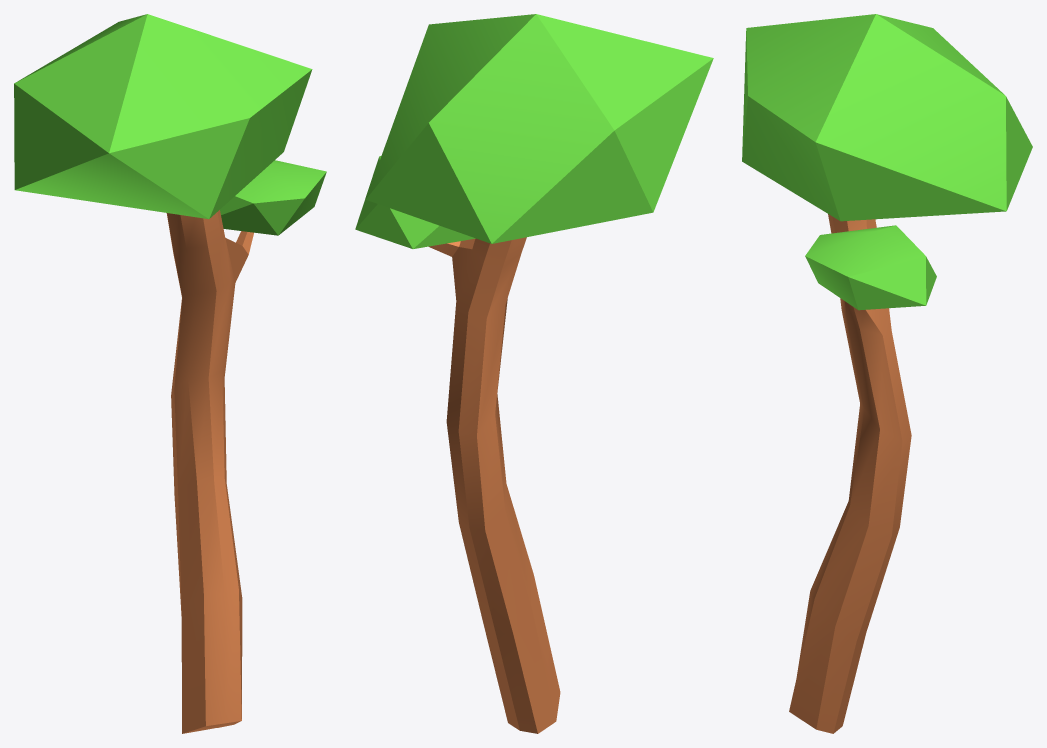
The model's file is tree3.fbx.
3 renders of one model, left to right at view 1: azimuth 30°, elevation 25°; view 2: azimuth 150°, elevation 25°; view 3: azimuth 270°, elevation 25°, orthographic. The views are drawn at different scales.
Visible parts, largest first — view 1: Icosphere.001, Cube, Icosphere.003; view 2: Icosphere.001, Cube, Icosphere.003; view 3: Icosphere.001, Cube, Icosphere.003.
Boxes of the visible parts, x1,y1,x2,y2 form: Icosphere.001: [14, 14, 312, 219]; Cube: [166, 210, 253, 733]; Icosphere.003: [220, 160, 326, 235]; Icosphere.001: [366, 14, 713, 243]; Cube: [429, 237, 560, 733]; Icosphere.003: [355, 156, 475, 248]; Icosphere.001: [742, 14, 1032, 221]; Cube: [789, 214, 911, 733]; Icosphere.003: [805, 225, 936, 310].
Bounding box in the file's own units: 113 × 267 × 101.
